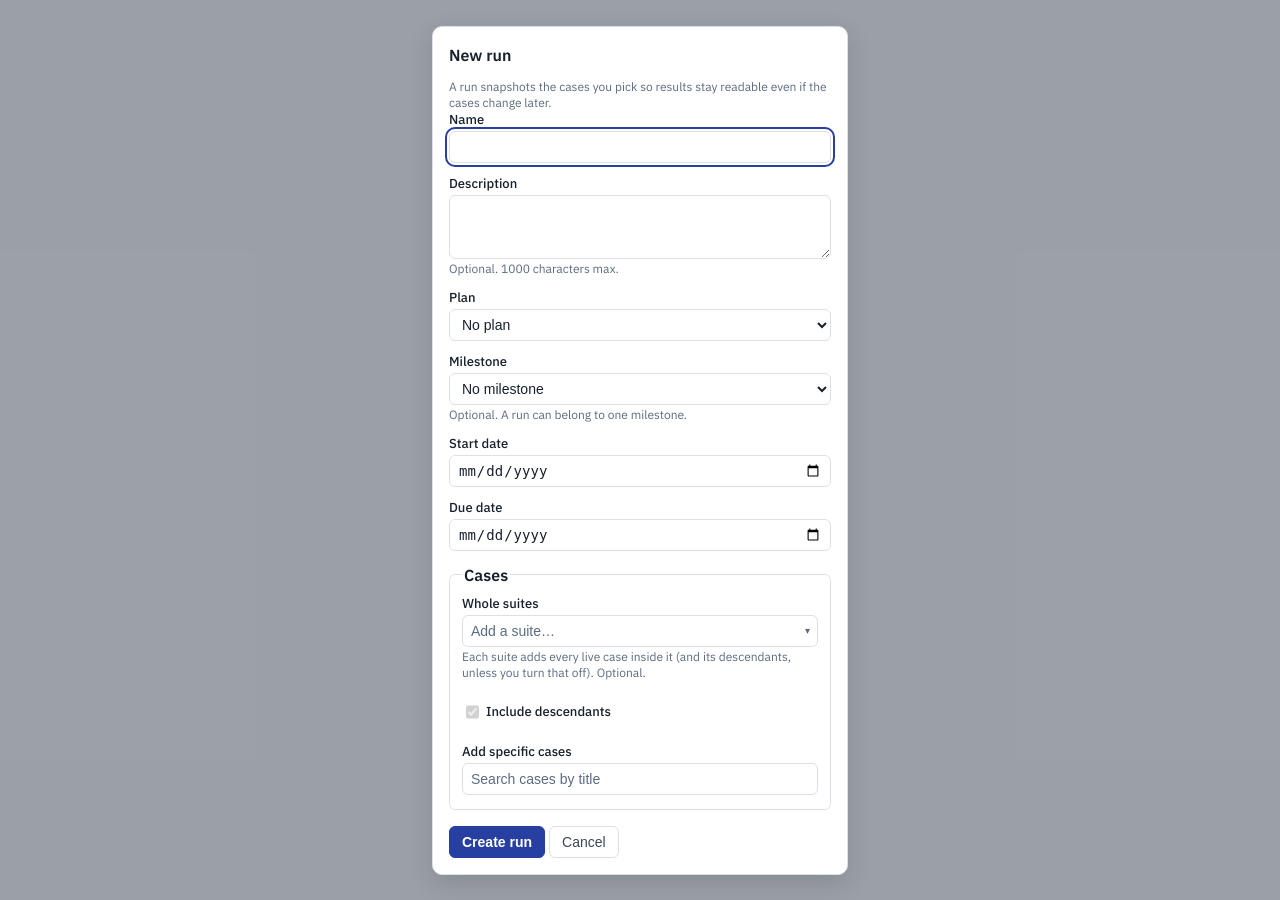
Test: RunFormDialog › does not offer a suite that is already on the run
Click the dropdown labelled "Whole suites" at (640, 630), box [462,614,818,646]
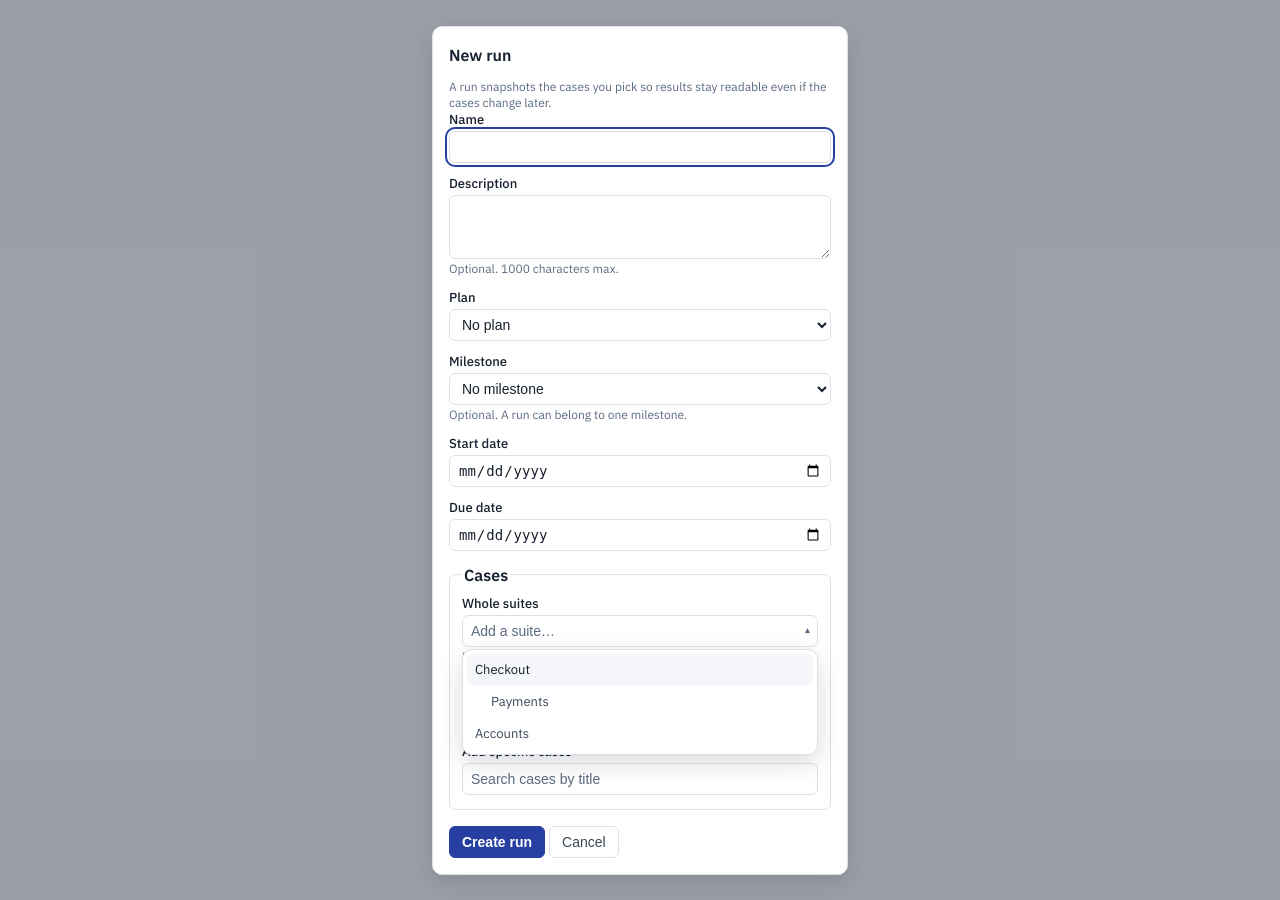
Click the option "Checkout" at (502, 669), box [467,654,813,686]
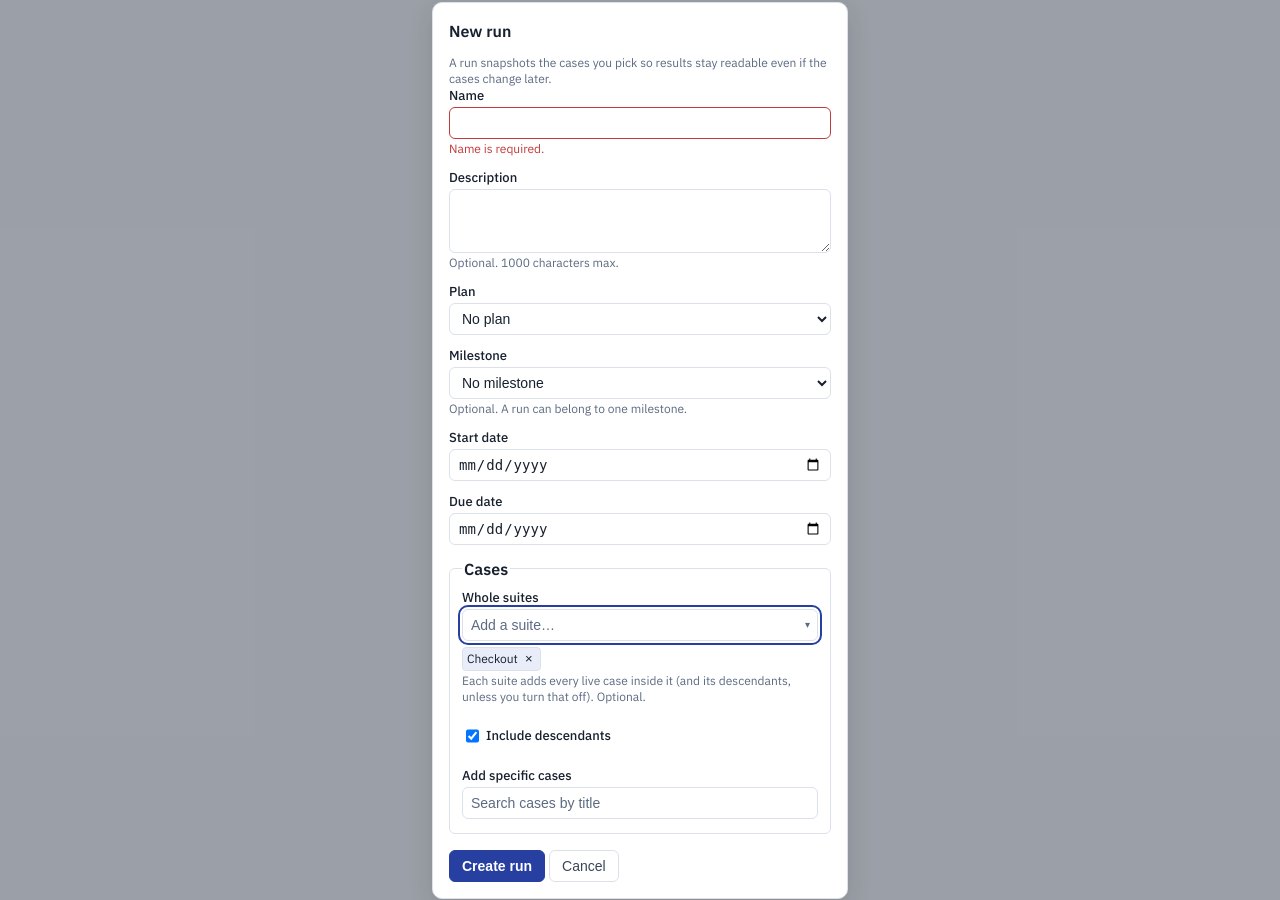
Click the dropdown labelled "Whole suites" at (640, 624), box [462,608,818,640]
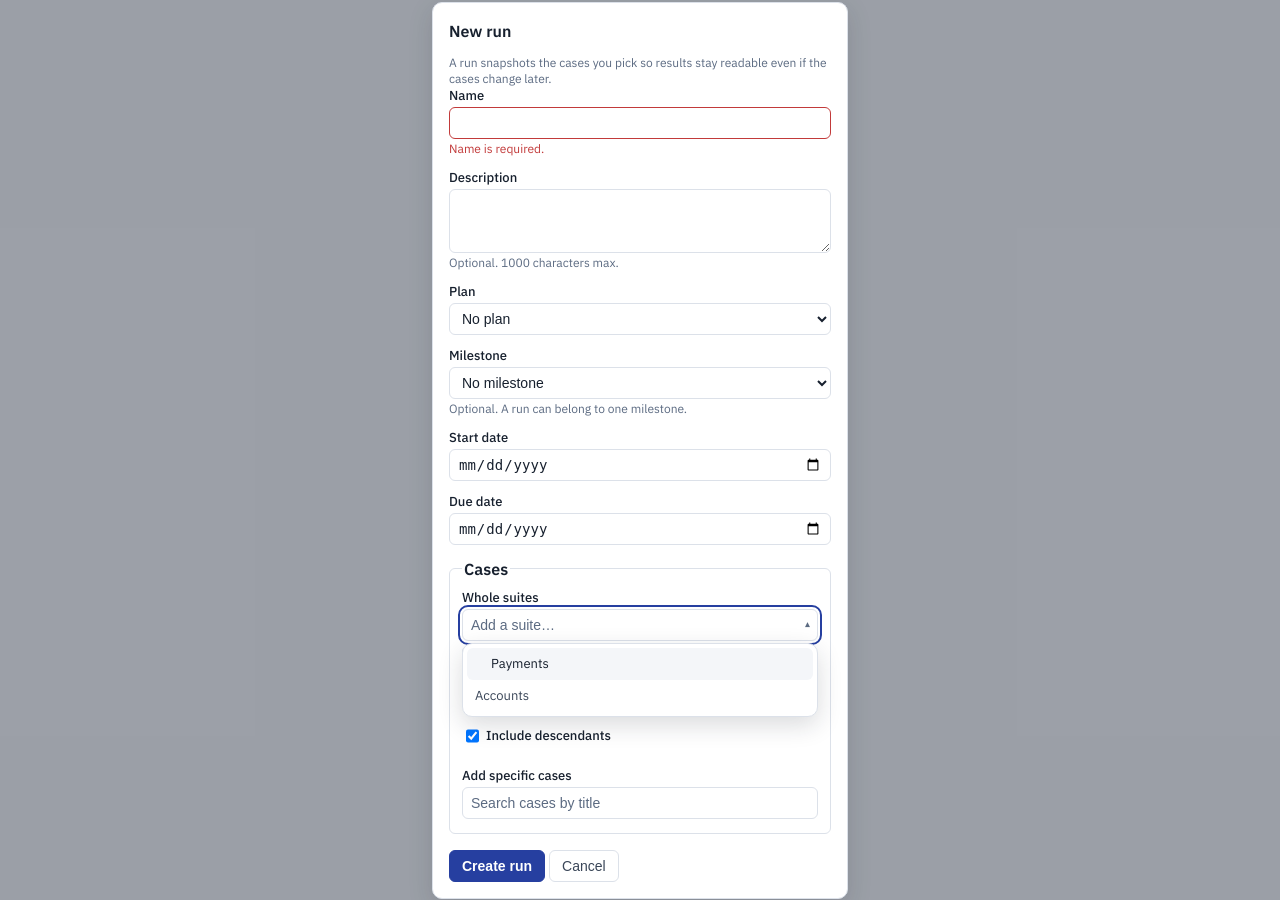
Expected: the option "Payments" is shown, [467,648,813,680]
Expected: the option "Accounts" is shown, [475,687,529,704]
Press Escape in the dropdown labelled "Whole suites", box [462,608,818,640]
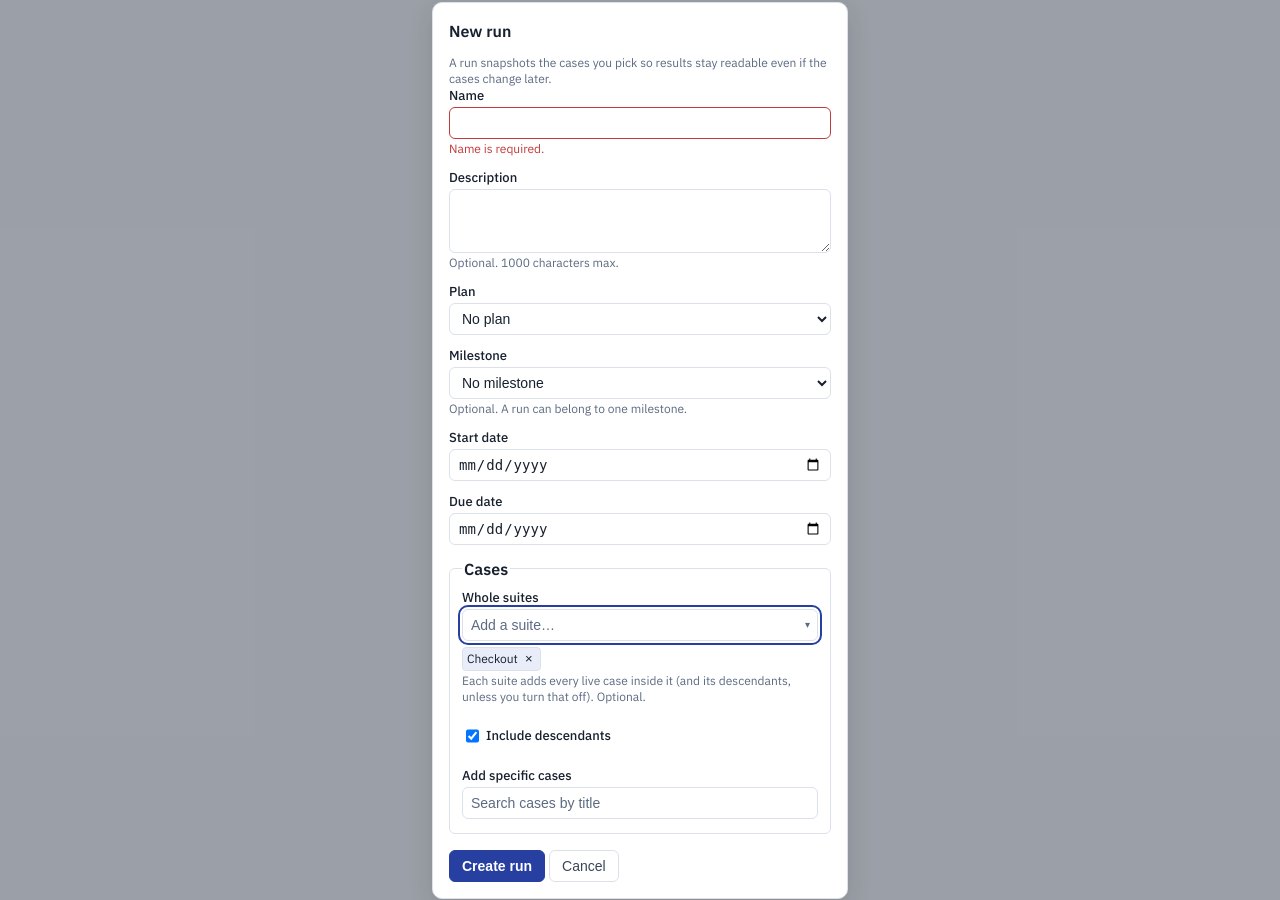
Click the button named "Remove suite Checkout" at (529, 658), box [520,650,538,668]
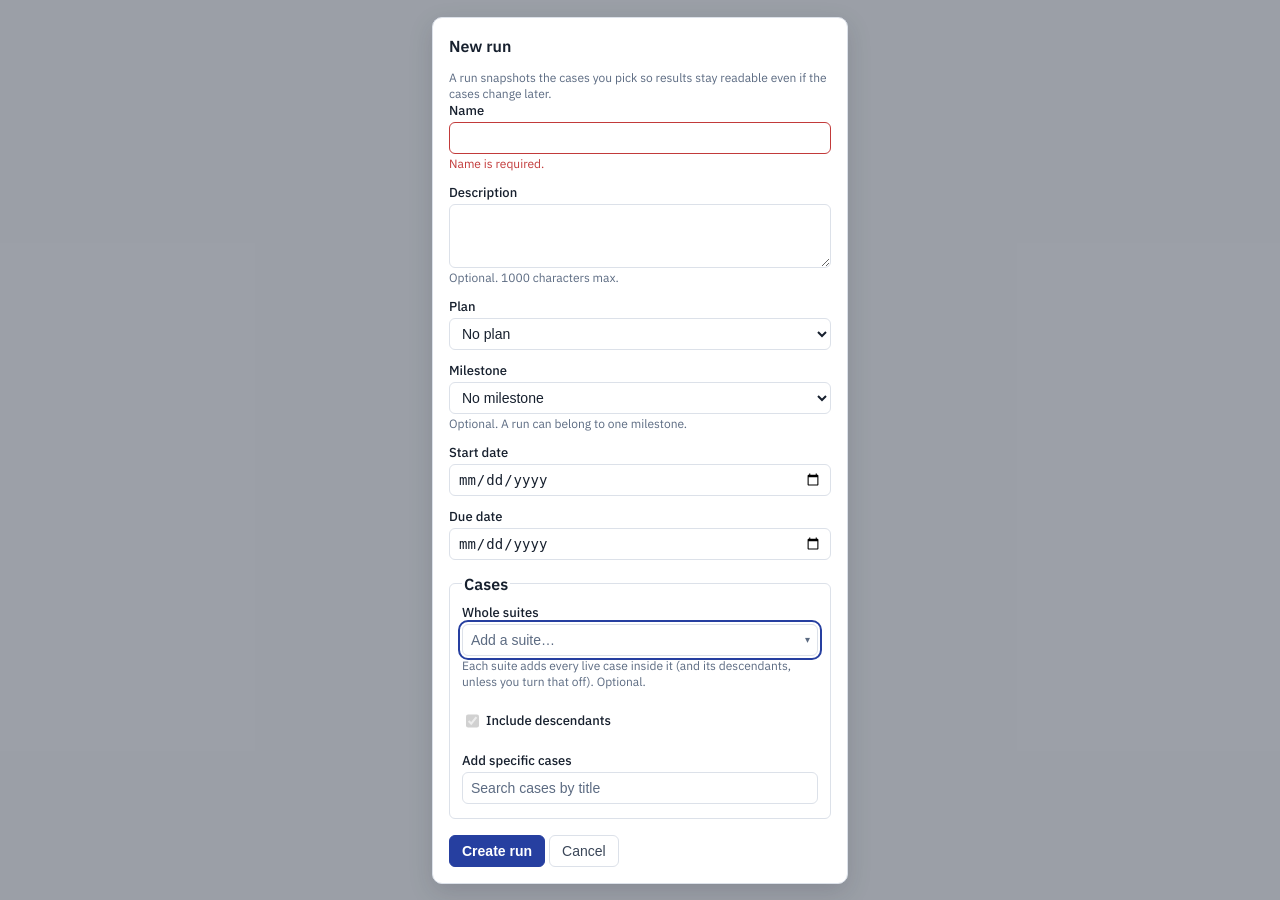
Click the dropdown labelled "Whole suites" at (640, 640), box [462,624,818,656]
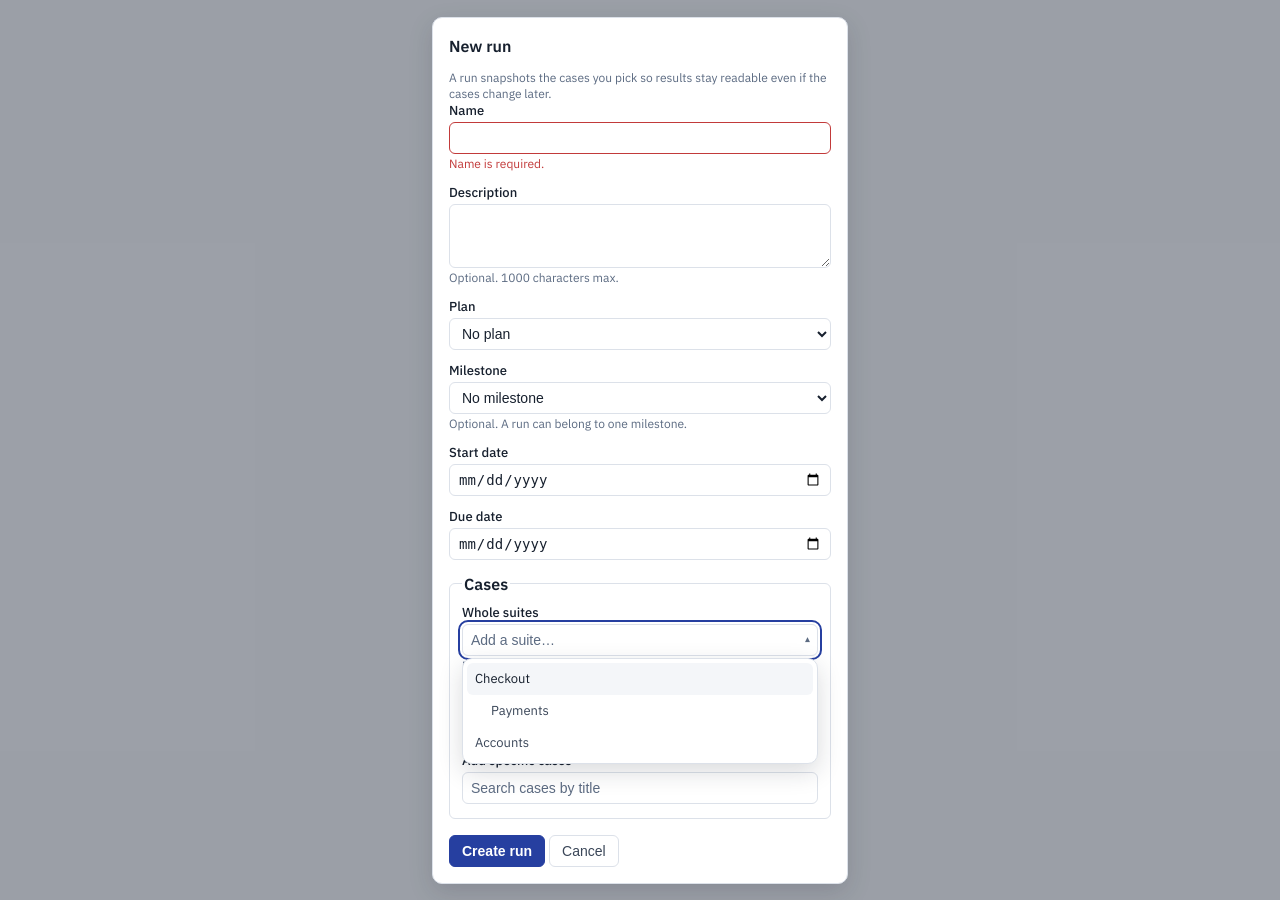
Expected: the option "Checkout" is shown, [467,662,813,694]
